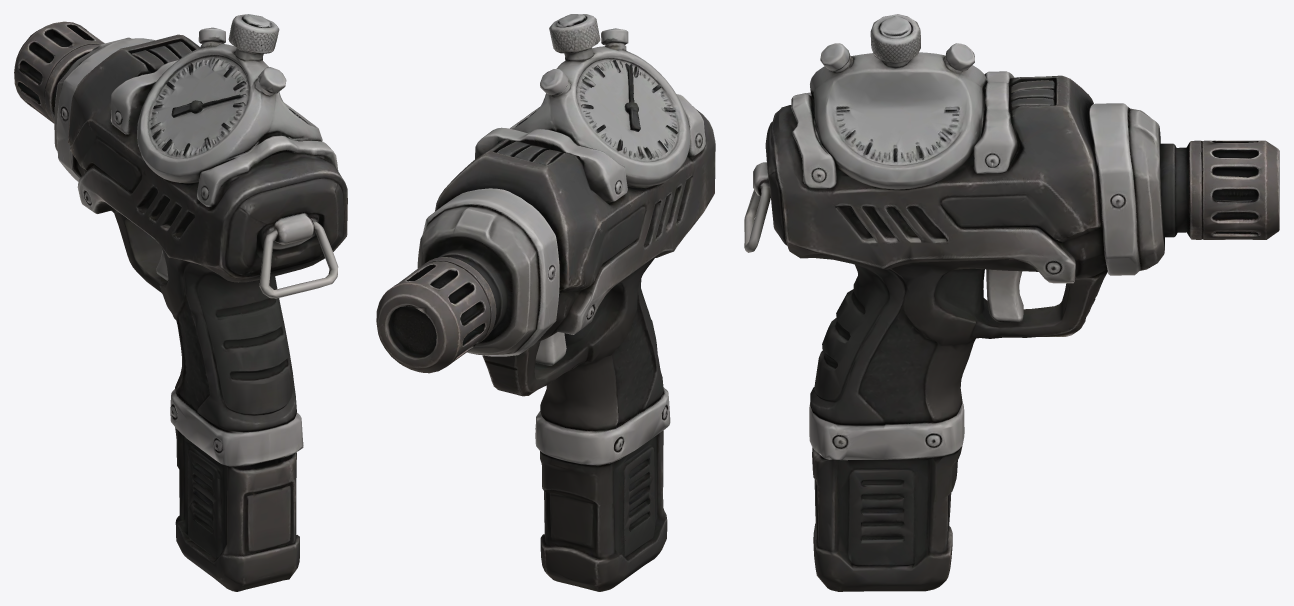
The model's file is weapon-stopwatch-v2.glb.
3 renders of one model, left to right at view 1: azimuth 30°, elevation 25°; view 2: azimuth 150°, elevation 25°; view 3: azimuth 270°, elevation 25°, orthographic. The views are drawn at different scales.
Parts seen in each view (by area): view 1: tripo_node_bd46990b-6998-4f01-bcb7-9a47660d5a55; view 2: tripo_node_bd46990b-6998-4f01-bcb7-9a47660d5a55; view 3: tripo_node_bd46990b-6998-4f01-bcb7-9a47660d5a55.
Part boxes in pixels (x1,y1,x2,y2): tripo_node_bd46990b-6998-4f01-bcb7-9a47660d5a55: [14, 14, 347, 591]; tripo_node_bd46990b-6998-4f01-bcb7-9a47660d5a55: [376, 14, 715, 591]; tripo_node_bd46990b-6998-4f01-bcb7-9a47660d5a55: [744, 14, 1279, 591].
Size of the model in its own units: 0.1419 by 0.4718 by 0.4.
1 material, 1 textured.
